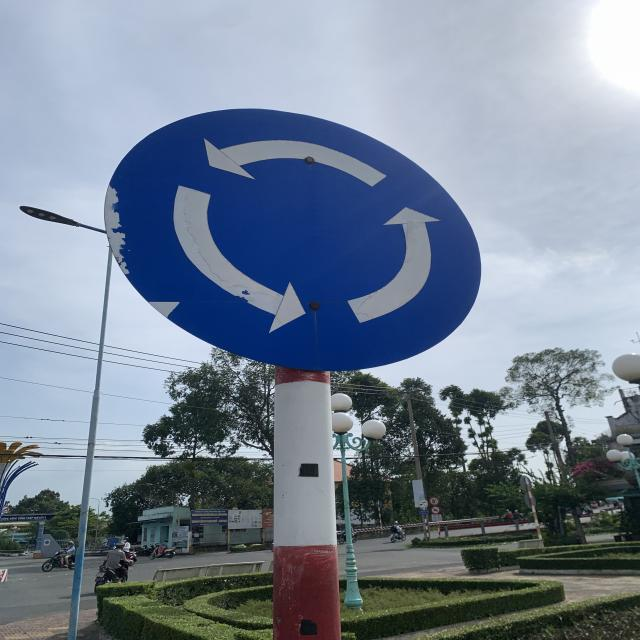Xe_Bus: (104, 110, 483, 373)
